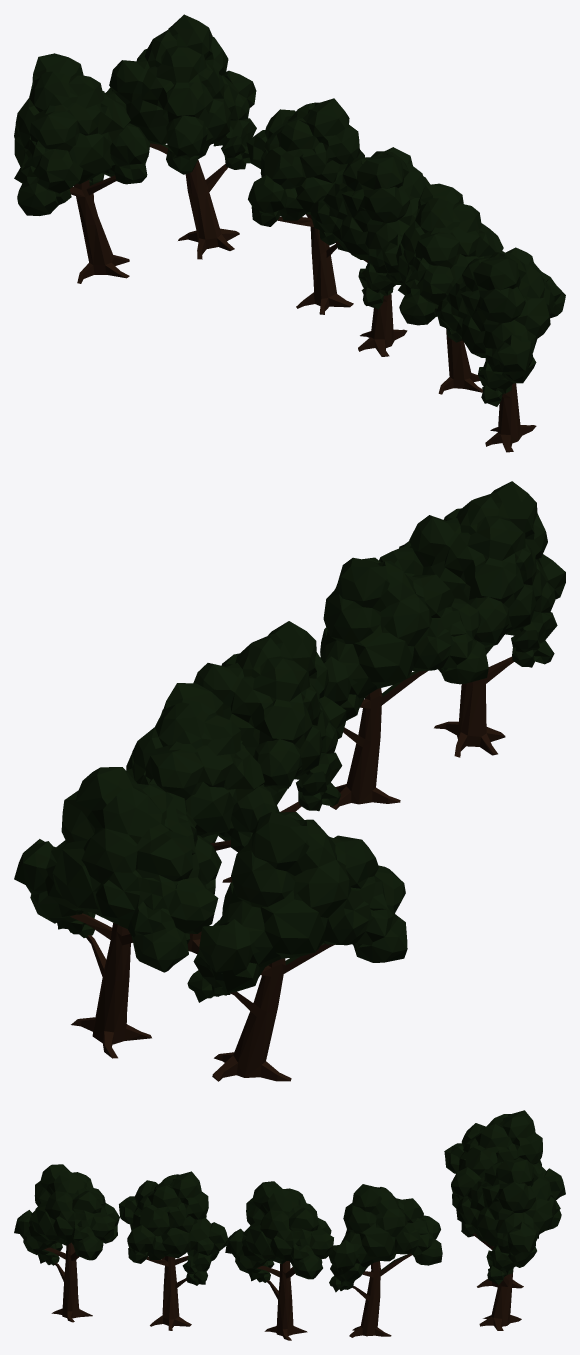
Rendered from treeees.fbx.
3 renders of one model, top to bottom at view 1: azimuth 30°, elevation 25°; view 2: azimuth 150°, elevation 25°; view 3: azimuth 270°, elevation 25°, orthographic. The views are drawn at different scales.
Visible parts, largest first — view 1: Trees; view 2: Trees; view 3: Trees.
Boxes of the visible parts, left/top/right/bottom form: Trees: left=14, top=14, right=565, bottom=452; Trees: left=14, top=481, right=565, bottom=1081; Trees: left=14, top=1110, right=565, bottom=1340.
Size of the model in its own units: 743 by 509 by 1552.
